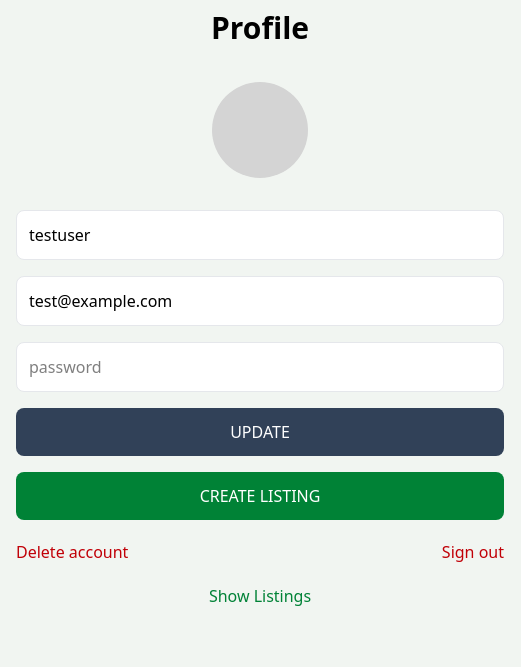
Profile Component › displays error message when update fails
// Clicking Update
Click the button "Update" at (260, 432), box [16, 408, 504, 456]
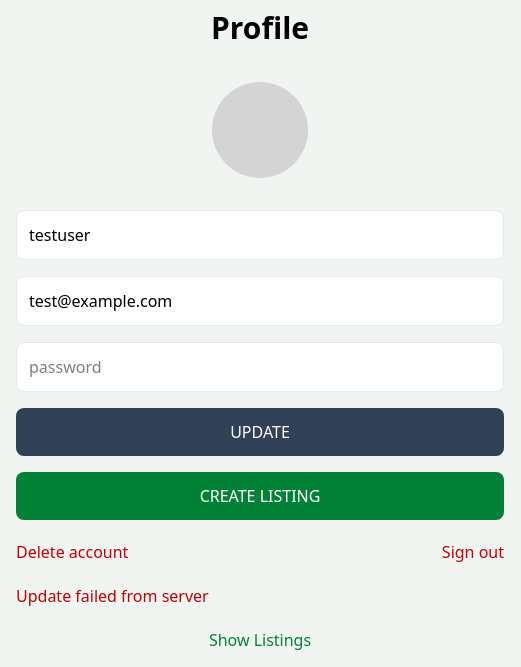
Expected: the text "Update failed from server" is shown, [16, 585, 209, 607]
